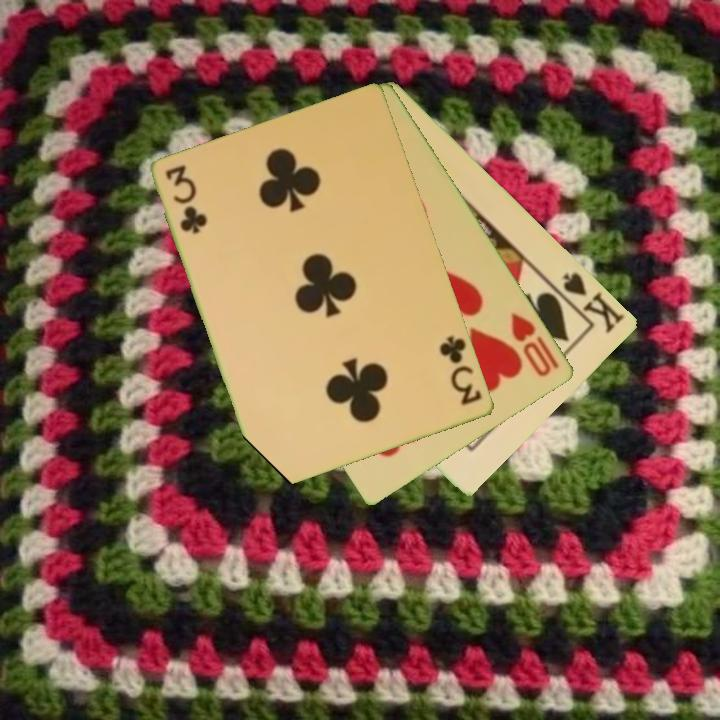10h: (507, 309, 563, 380)
3c: (436, 332, 485, 409), (162, 161, 209, 237)
Ks: (549, 268, 628, 337)
